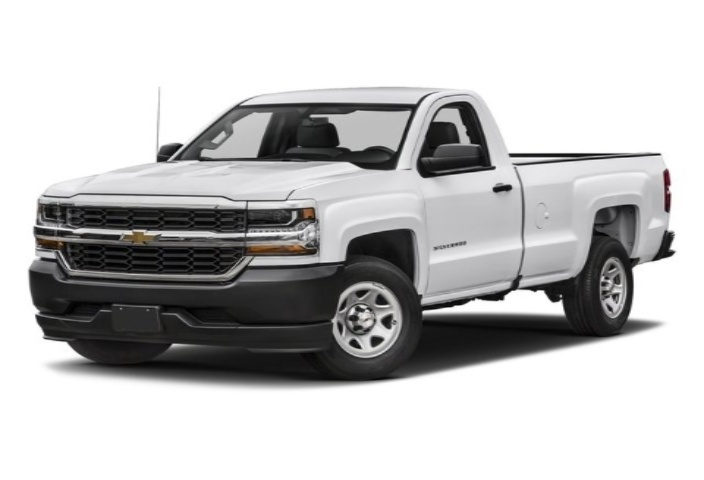camper: (21, 75, 681, 397)
